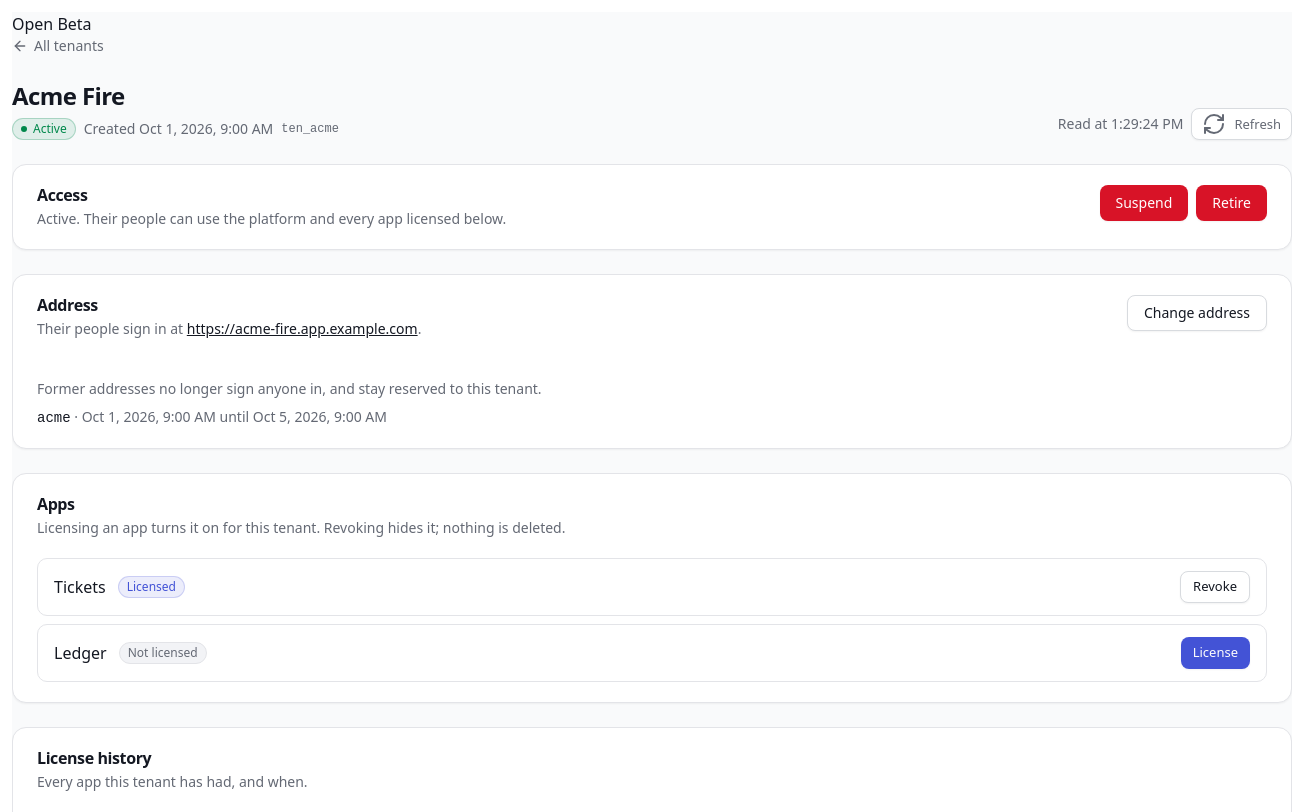
never shows one tenant's data on another's page when a change finishes after moving on
Click the button with aria-label "License Ledger" at point(1215, 653), box [1181, 637, 1250, 669]
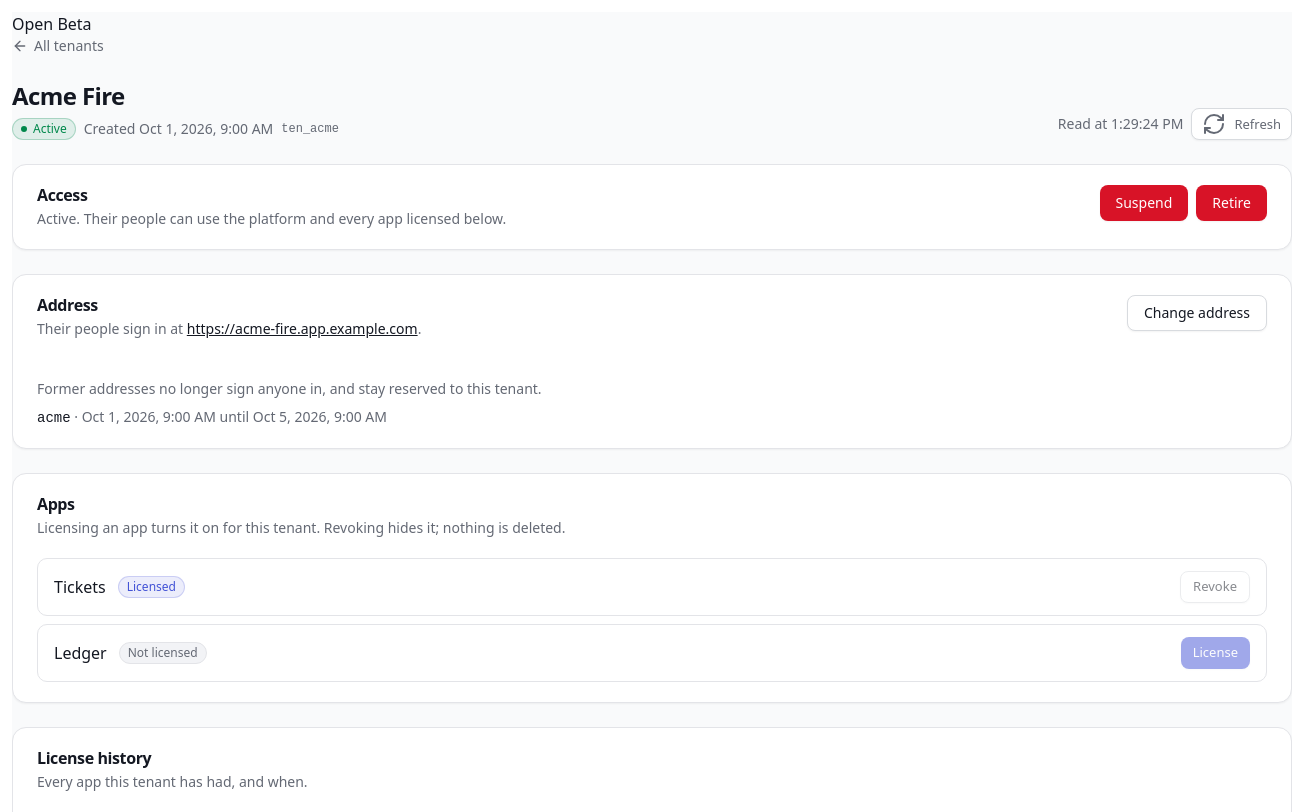
Click the link "Open Beta" at point(52, 24), box [12, 13, 92, 35]
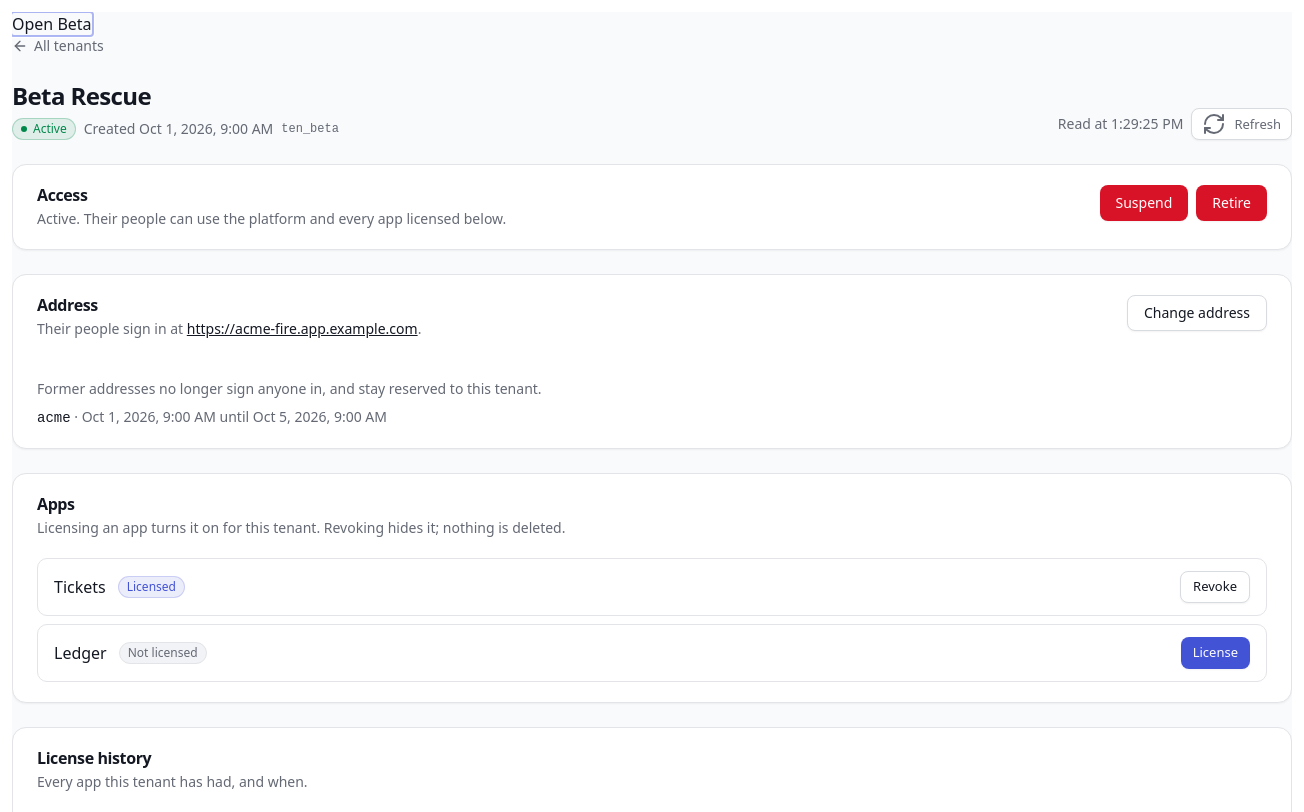
expect the heading "Beta Rescue" is shown: met, box [12, 79, 151, 112]
expect the heading "Acme Fire" is gone: met
